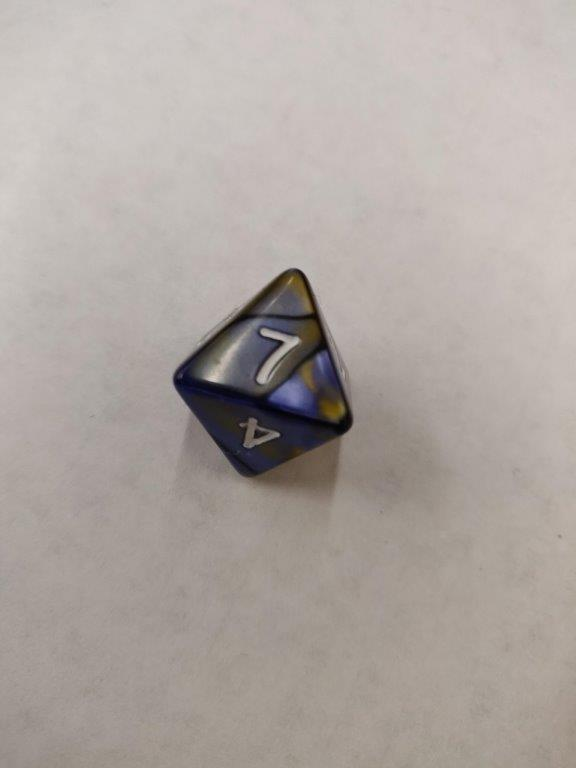d8-7: (173, 266, 356, 478)
